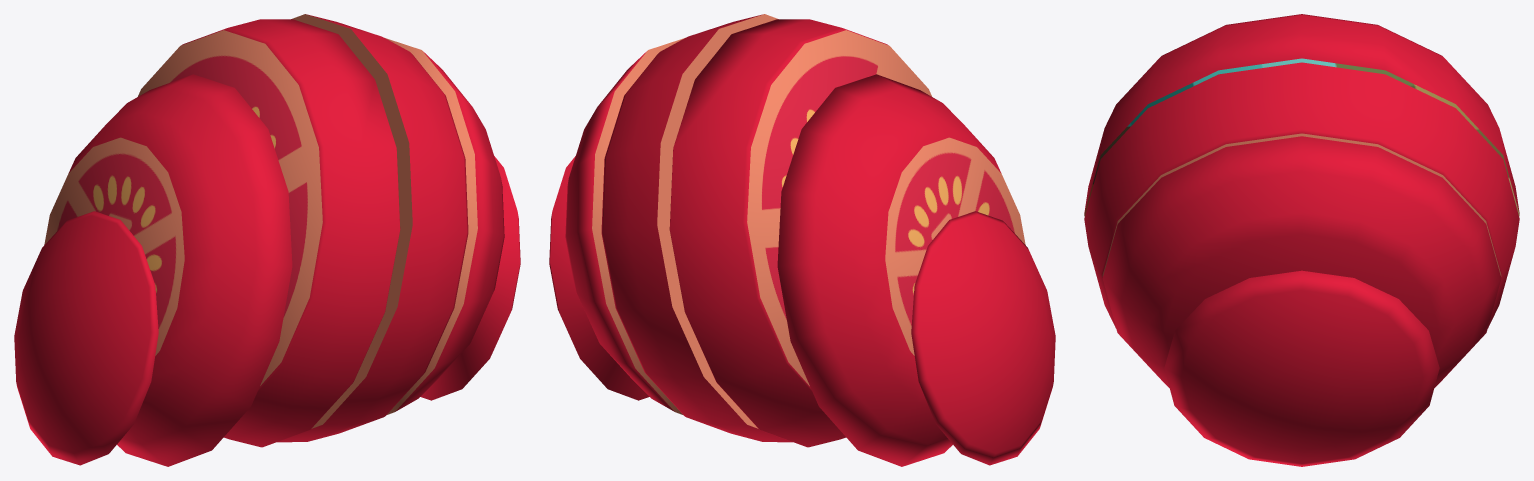
File: tomatoSliced2.fbx
3 renders of one model, left to right at view 1: azimuth 30°, elevation 25°; view 2: azimuth 150°, elevation 25°; view 3: azimuth 270°, elevation 25°, orthographic.
Parts seen in each view (by area): view 1: Cylinder.005, Cylinder.004, Cylinder.002, Cylinder.003, Cylinder.001, Cylinder.000; view 2: Cylinder.005, Cylinder.004, Cylinder.002, Cylinder.003, Cylinder.001, Cylinder.000; view 3: Cylinder.001, Cylinder.000, Cylinder.003, Cylinder.004.
Part boxes in pixels (x1,y1,x2,y2): Cylinder.005: (44,74,292,466); Cylinder.004: (138,19,400,447); Cylinder.002: (14,211,158,465); Cylinder.003: (277,14,468,442); Cylinder.001: (385,38,504,414); Cylinder.000: (420,156,520,400); Cylinder.005: (777,74,1025,466); Cylinder.004: (669,19,931,447); Cylinder.002: (911,211,1055,465); Cylinder.003: (601,14,792,442); Cylinder.001: (565,38,684,414); Cylinder.000: (549,156,649,400); Cylinder.001: (1102,136,1501,387); Cylinder.000: (1164,270,1439,466); Cylinder.003: (1084,62,1519,328); Cylinder.004: (1084,14,1519,216).
Size of the model in its own units: 54.04 by 44.36 by 45.
